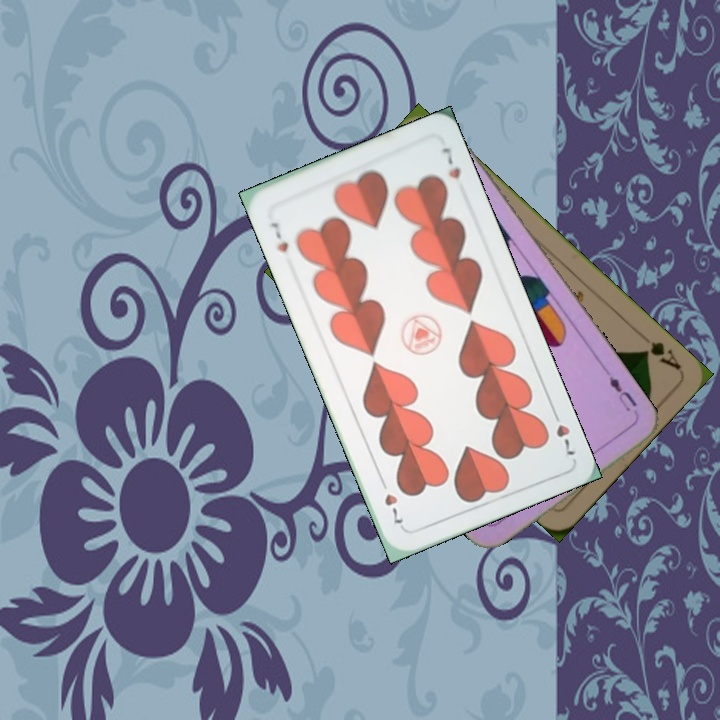EU: (605, 371, 640, 415)
GA: (637, 337, 684, 373)
H7: (547, 404, 578, 458), (266, 218, 292, 255)
